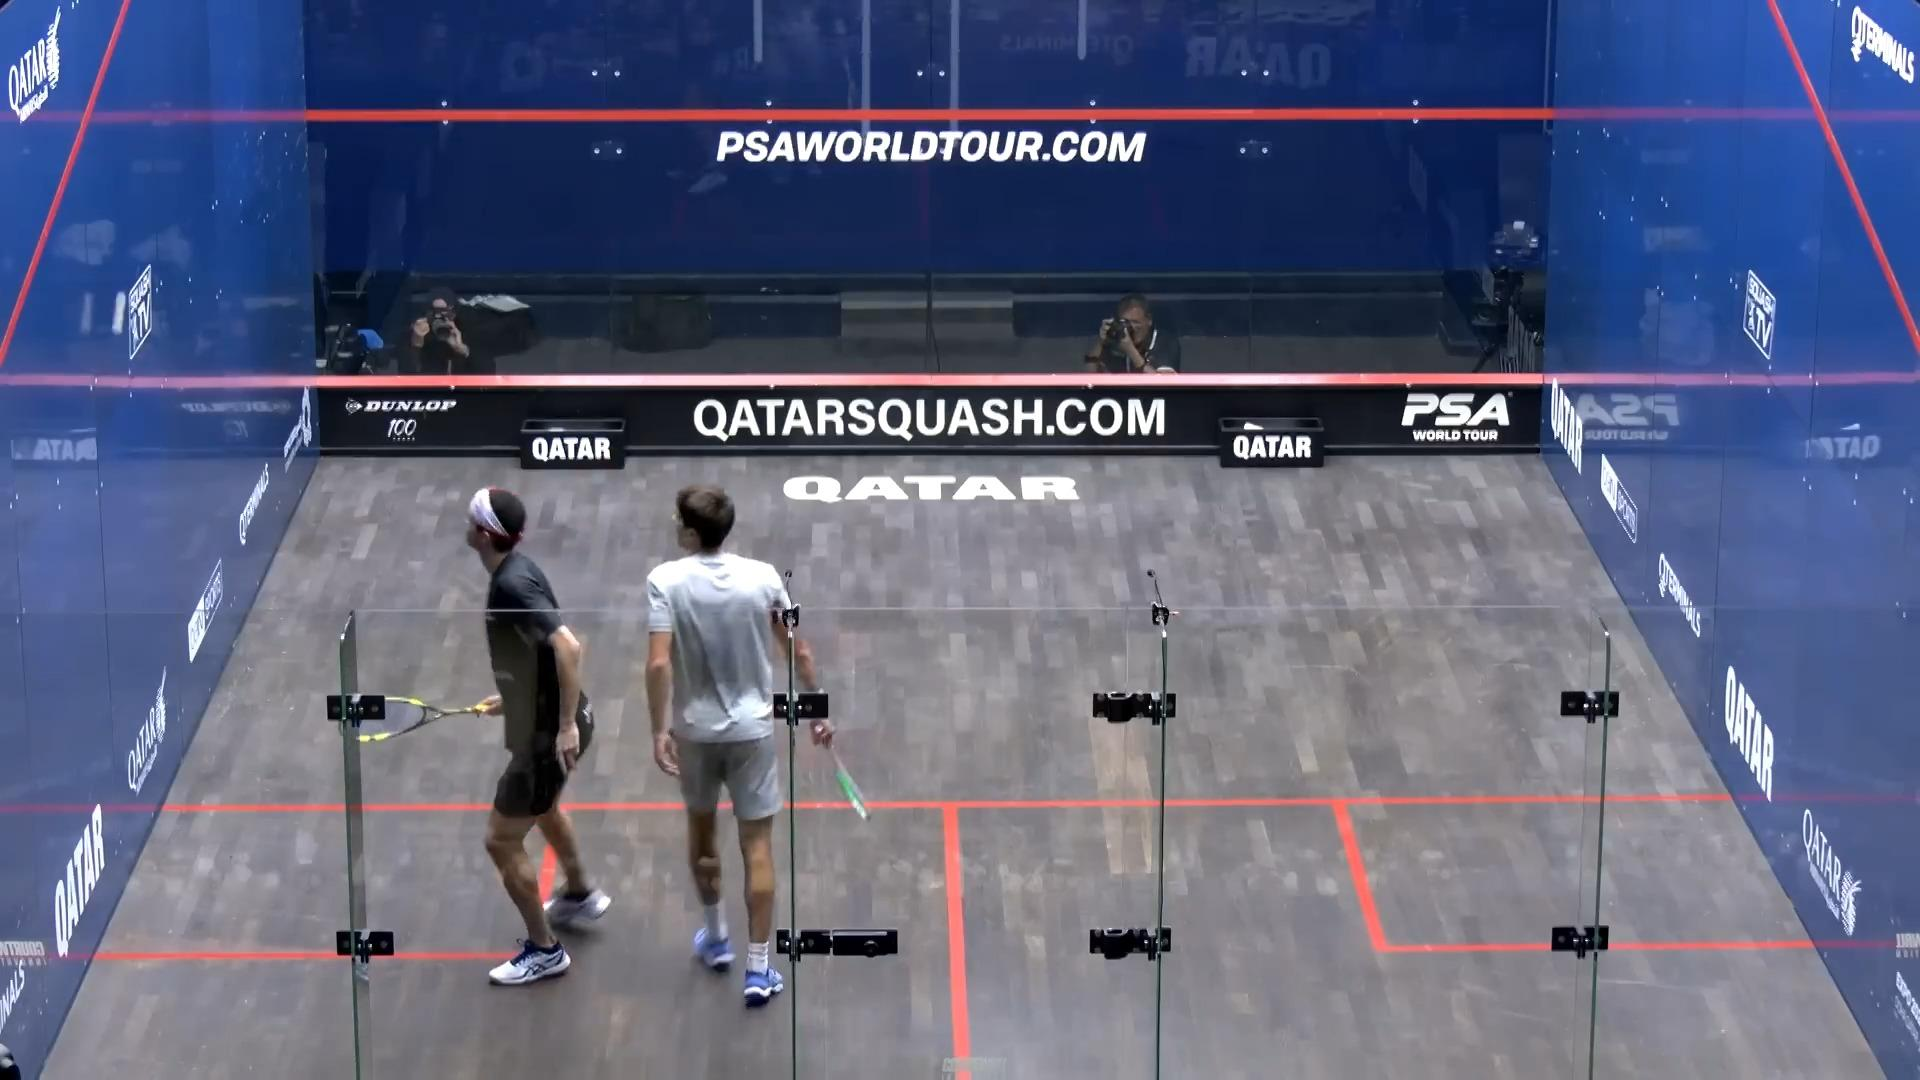Racket: (342, 692, 487, 748), (814, 731, 882, 828)
